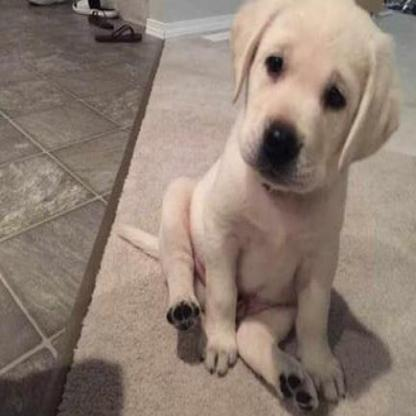dog: (111, 6, 399, 413)
